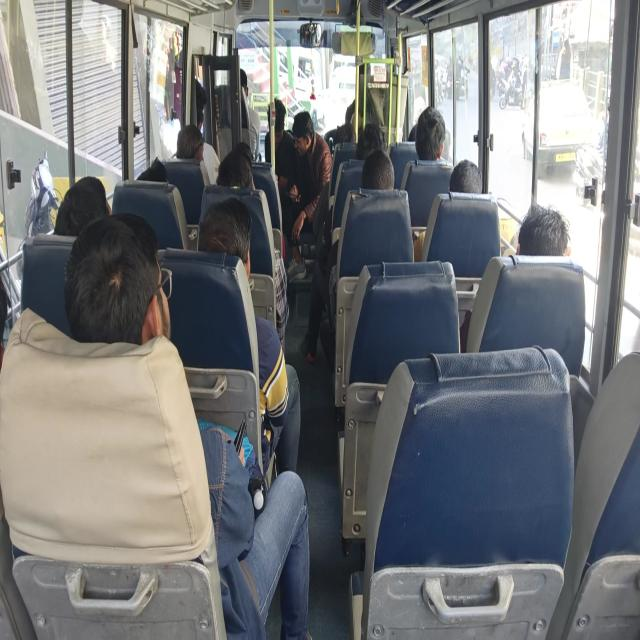person: (84, 227, 158, 339), (61, 177, 121, 253), (195, 204, 257, 266), (525, 208, 564, 254), (454, 160, 496, 202), (358, 162, 404, 198), (0, 265, 15, 374), (412, 114, 445, 160), (146, 163, 180, 206), (184, 80, 216, 123), (217, 157, 255, 192), (266, 97, 291, 148), (290, 118, 320, 154), (176, 122, 205, 158), (356, 128, 384, 162), (227, 132, 258, 160), (402, 115, 422, 146), (232, 79, 252, 103), (344, 123, 364, 143)
